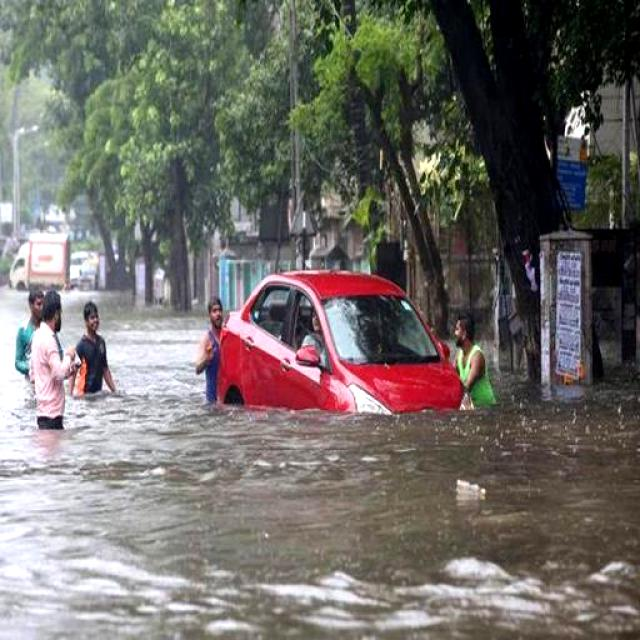civilian: (25, 281, 75, 451), (450, 311, 506, 424), (66, 298, 119, 416), (13, 286, 68, 384), (191, 294, 225, 415)
